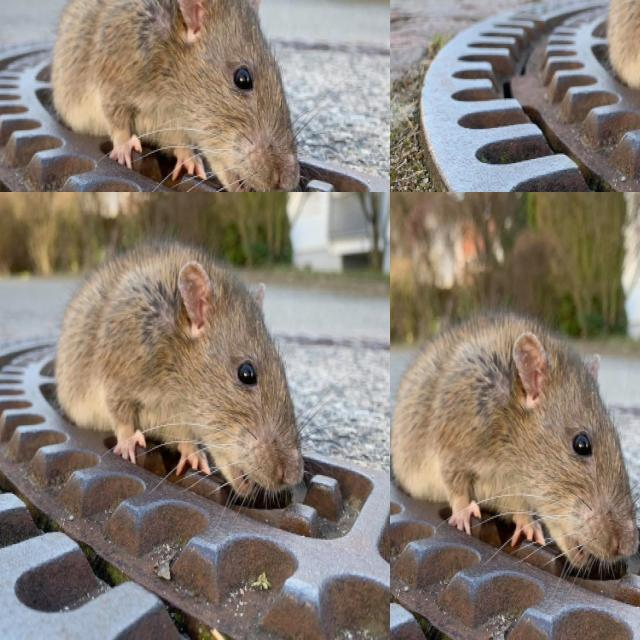rat: (390, 301, 640, 588), (0, 192, 185, 575), (424, 0, 640, 192)
